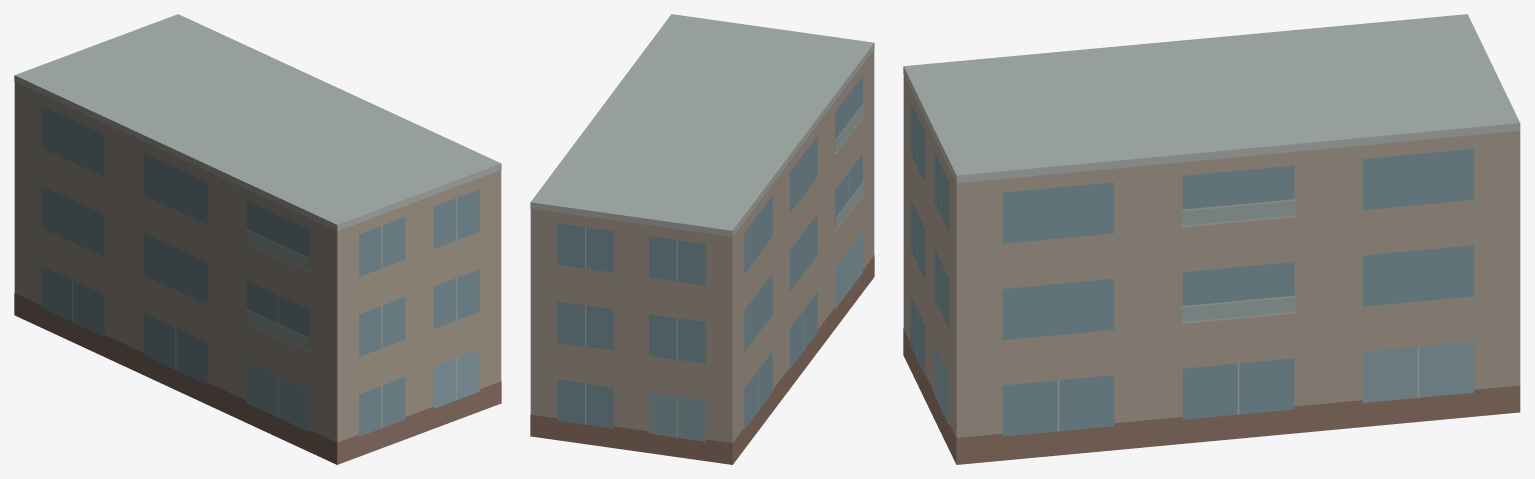
Rendered from survey-upis-32930644.glb.
The picture shows the model from 3 angles, left to right: view 1: azimuth 30°, elevation 25°; view 2: azimuth 150°, elevation 25°; view 3: azimuth 270°, elevation 25°; orthographic projection. The views are drawn at different scales.
Visible parts, largest first — view 1: survey-upis-32930644.tmp; view 2: survey-upis-32930644.tmp; view 3: survey-upis-32930644.tmp.
Part boxes in pixels (bbox=[...]): survey-upis-32930644.tmp: bbox=[14, 14, 501, 464]; survey-upis-32930644.tmp: bbox=[530, 14, 874, 464]; survey-upis-32930644.tmp: bbox=[903, 14, 1520, 464].
Bounding box in the file's own units: 10.97 × 9.15 × 17.69.
